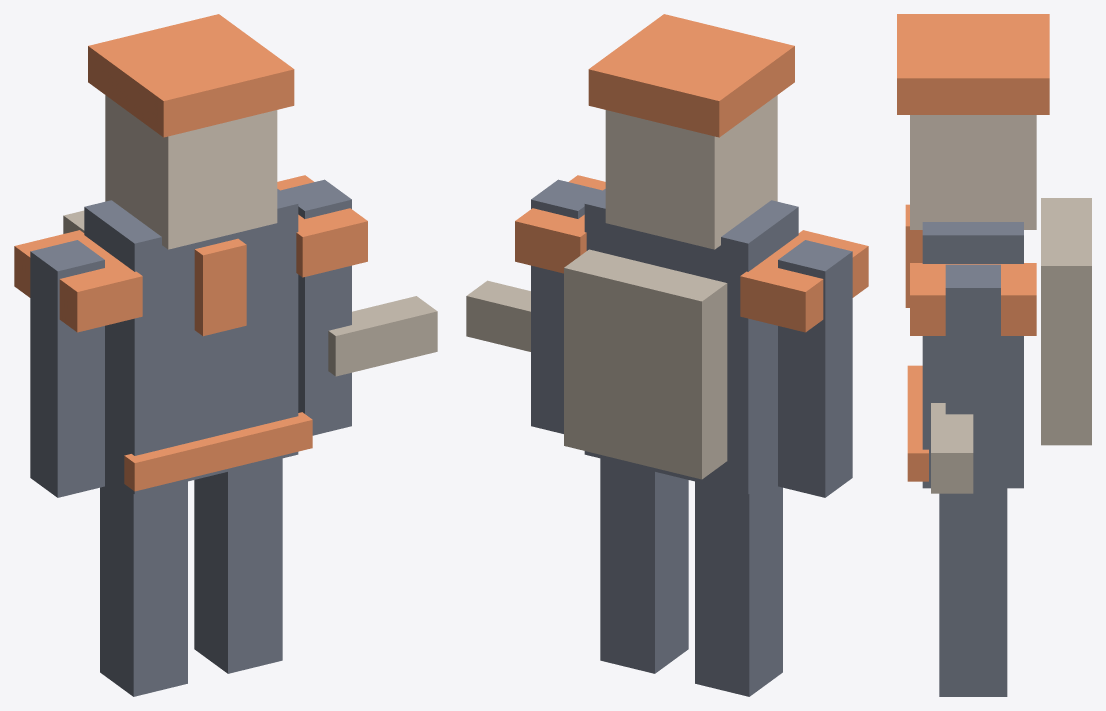
The model's file is 14_maelis_brightlock_marshal_near_orbital.glb.
3 views of the same model, side by side, from view 1: azimuth 30°, elevation 25°; view 2: azimuth 150°, elevation 25°; view 3: azimuth 270°, elevation 25° (orthographic).
Parts seen in each view (by area): view 1: Maelis Brightlock, Marshal near Orbital; view 2: Maelis Brightlock, Marshal near Orbital; view 3: Maelis Brightlock, Marshal near Orbital.
Boxes of the visible parts, <box> form: Maelis Brightlock, Marshal near Orbital: <box>14,14,437,696</box>; Maelis Brightlock, Marshal near Orbital: <box>466,14,868,696</box>; Maelis Brightlock, Marshal near Orbital: <box>897,14,1091,696</box>.
Size of the model in its own units: 1.06 by 1.66 by 0.4772.
